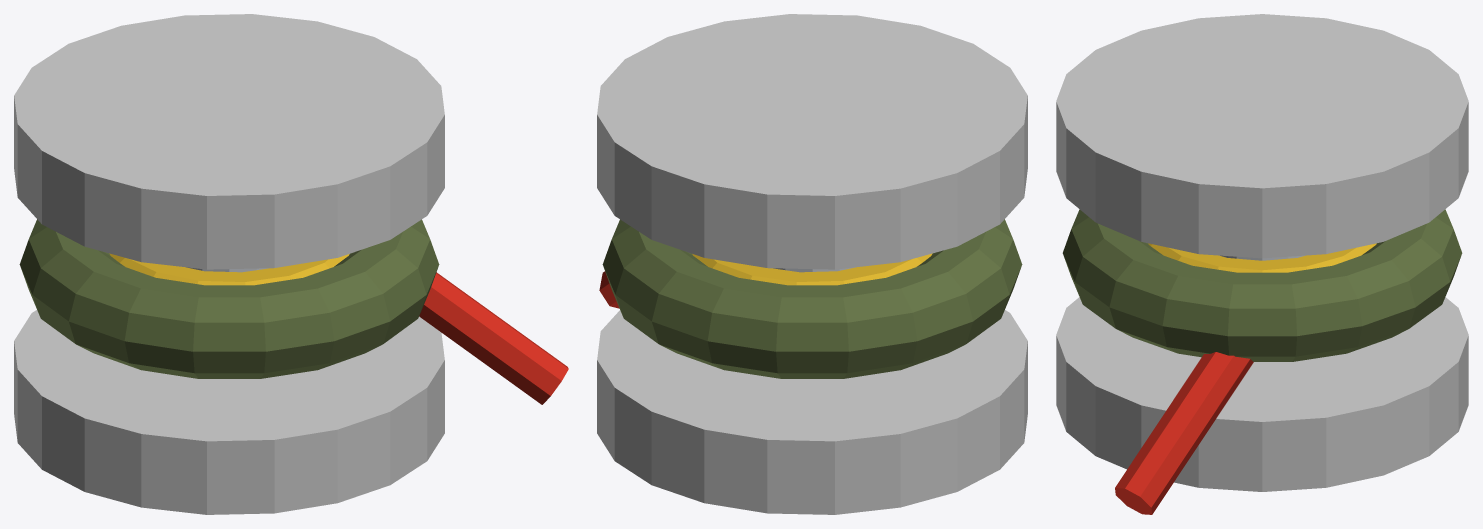
Rendered from cable.obj.
3 views of the same model, side by side, from view 1: azimuth 30°, elevation 25°; view 2: azimuth 150°, elevation 25°; view 3: azimuth 270°, elevation 25° (orthographic). The views are drawn at different scales.
Visible parts, largest first — view 1: cable; view 2: cable; view 3: cable.
Part boxes in pixels (bbox=[...]): cable: bbox=[14, 14, 568, 514]; cable: bbox=[597, 14, 1027, 514]; cable: bbox=[1056, 14, 1468, 514].
Size of the model in its own units: 0.3938 by 0.26 by 0.32.
